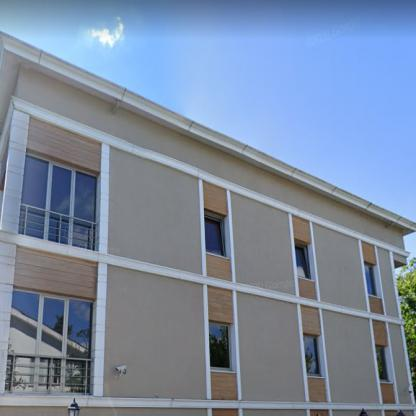window: (7, 290, 92, 391), (20, 155, 97, 248), (209, 322, 230, 368), (206, 214, 224, 256), (303, 335, 319, 374), (295, 245, 310, 278), (376, 348, 389, 380), (365, 266, 376, 294)
